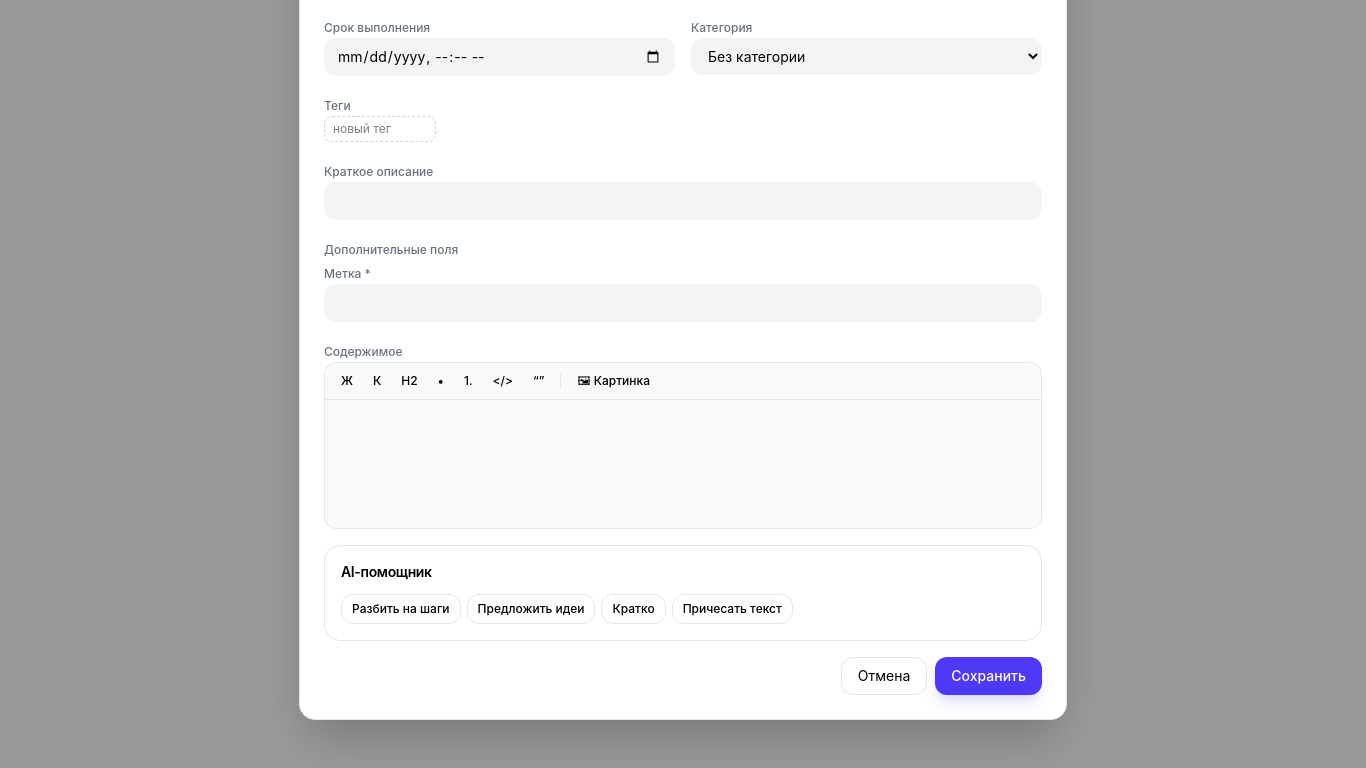
Test: TaskDialog: ошибки валидации › показывает ошибку по неизвестному форме полю общим сообщением
(page scrolled)
Step 1. Click the button "Сохранить" → (989, 676), box [935,657,1042,695]
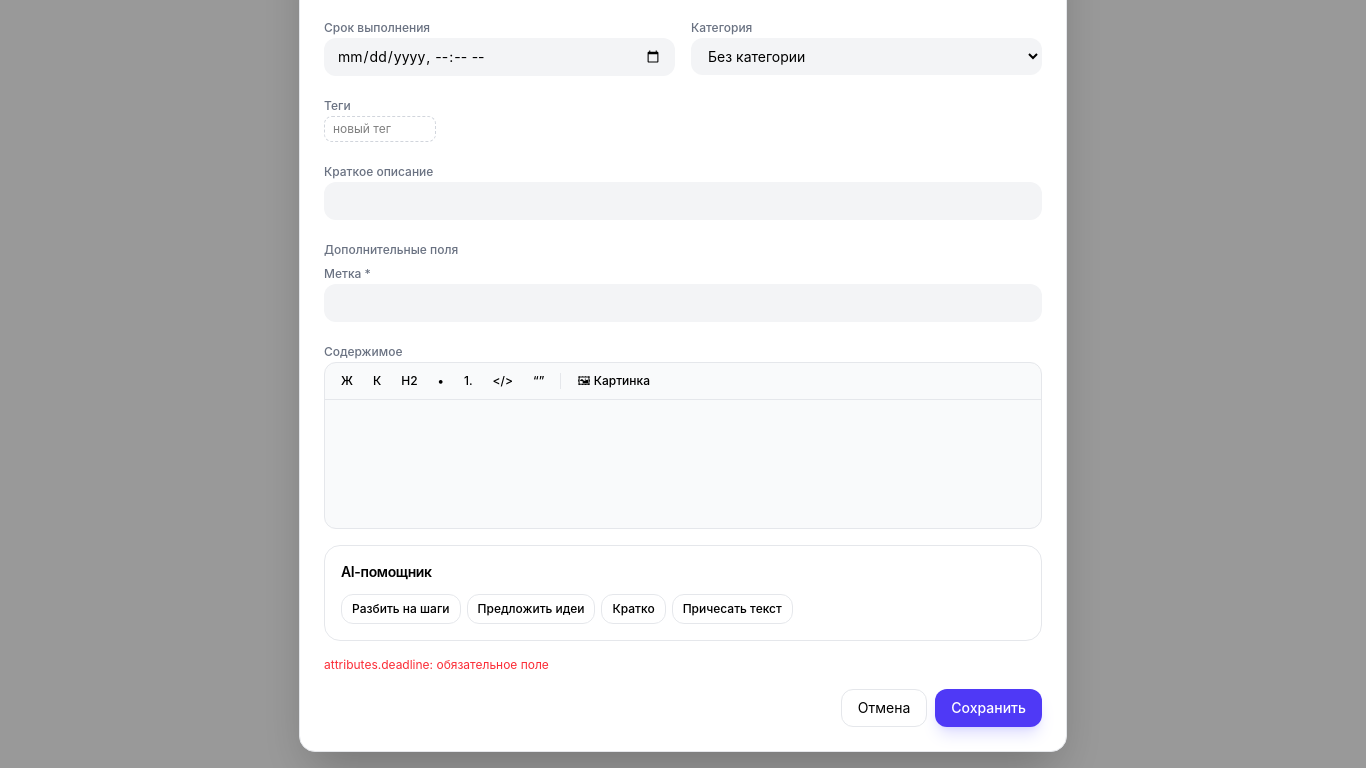
Expected: the message reads "attributes.deadline: обязательное поле", [324,657,549,672]
